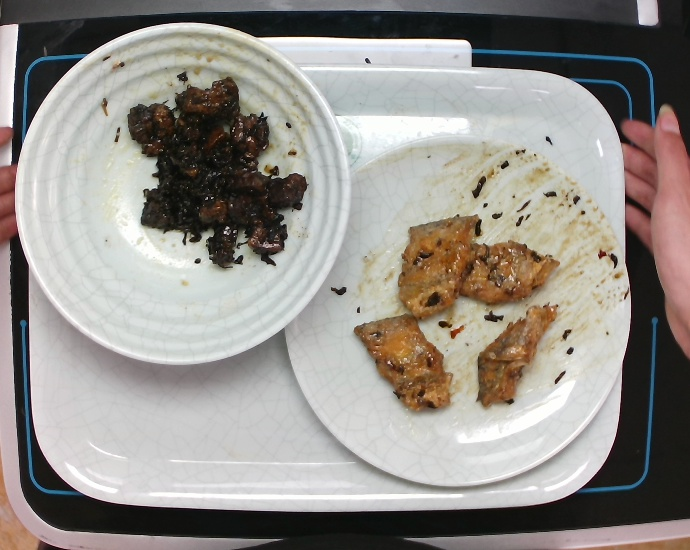JYsf-Da_Tang_Wan: (8, 16, 357, 371)
JYsf-Da_Yuan_Pan: (278, 127, 638, 492)
